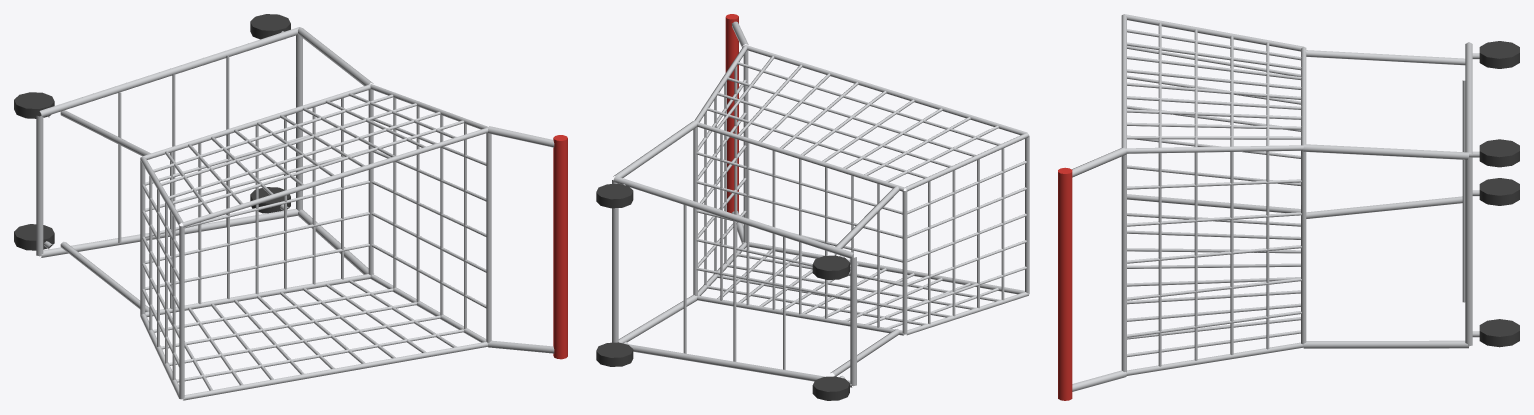
Rendered from shopping_cart.glb.
The picture shows the model from 3 angles, left to right: view 1: azimuth 30°, elevation 25°; view 2: azimuth 150°, elevation 25°; view 3: azimuth 270°, elevation 25°; orthographic projection. The views are drawn at different scales.
Parts seen in each view (by area): view 1: shopping_cart; view 2: shopping_cart; view 3: shopping_cart.
Boxes of the visible parts, x1,y1,x2,y2 form: shopping_cart: (14, 14, 567, 400); shopping_cart: (596, 14, 1029, 400); shopping_cart: (1058, 14, 1519, 400).
Size of the model in its own units: 0.9125 by 0.5379 by 0.978.
